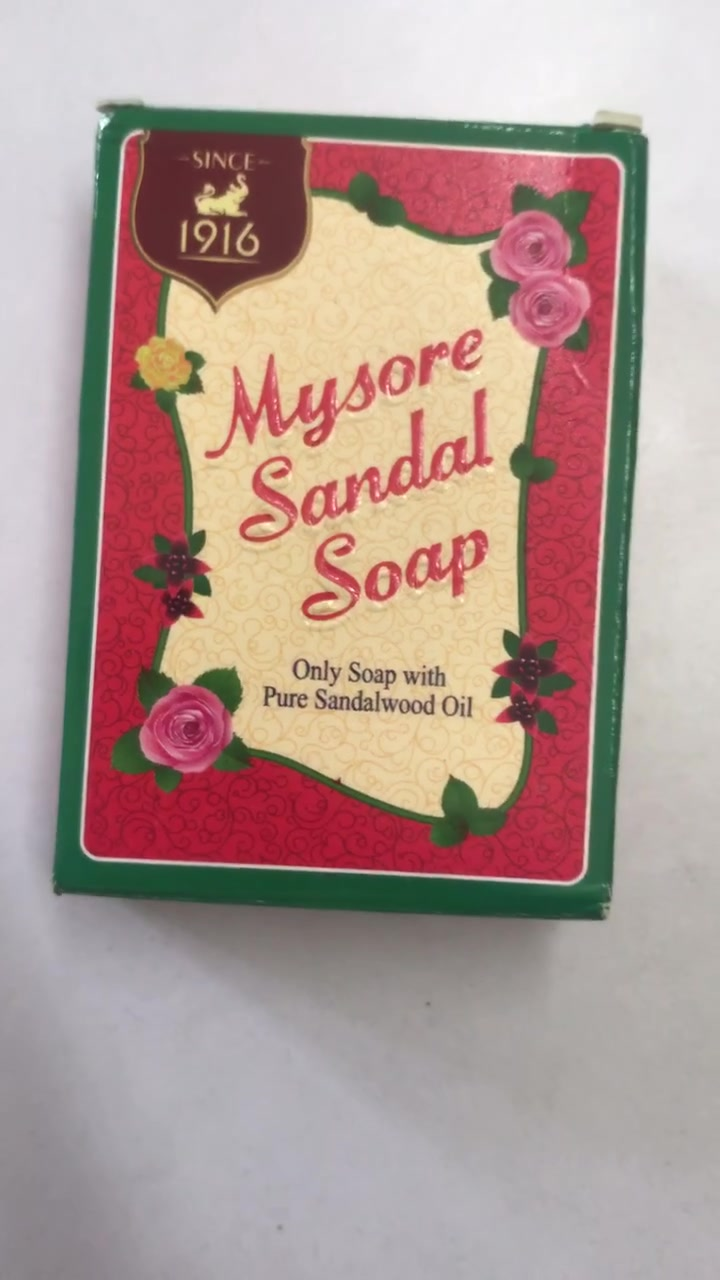mysore sandal soap: (45, 103, 649, 923)
